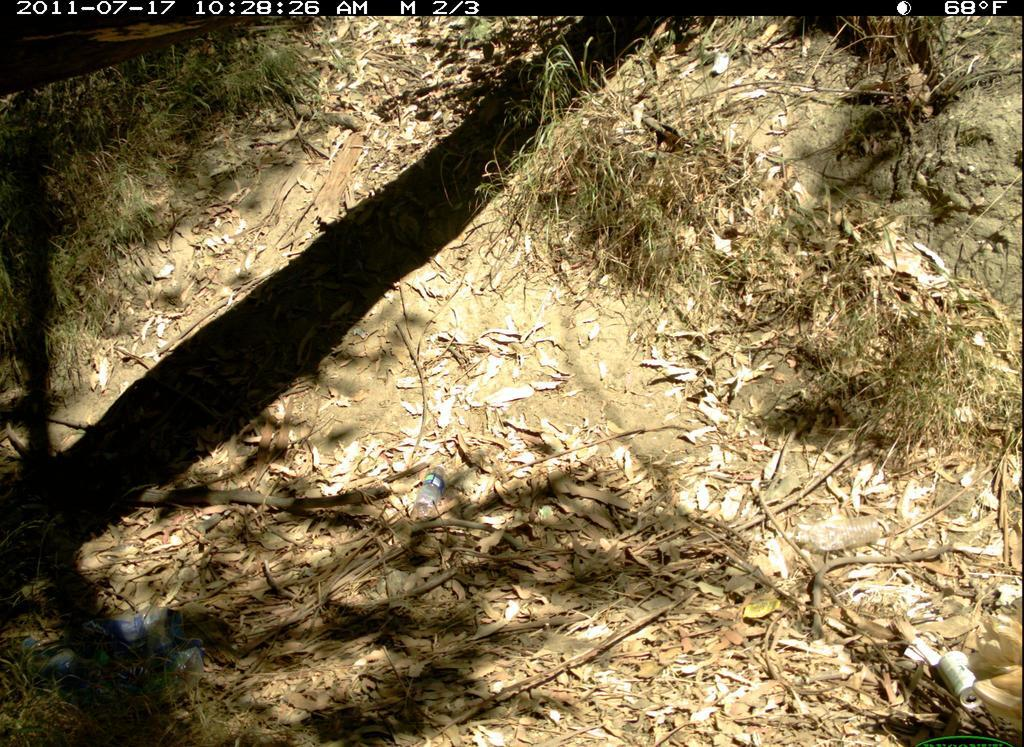bird: (968, 591, 1024, 736)
